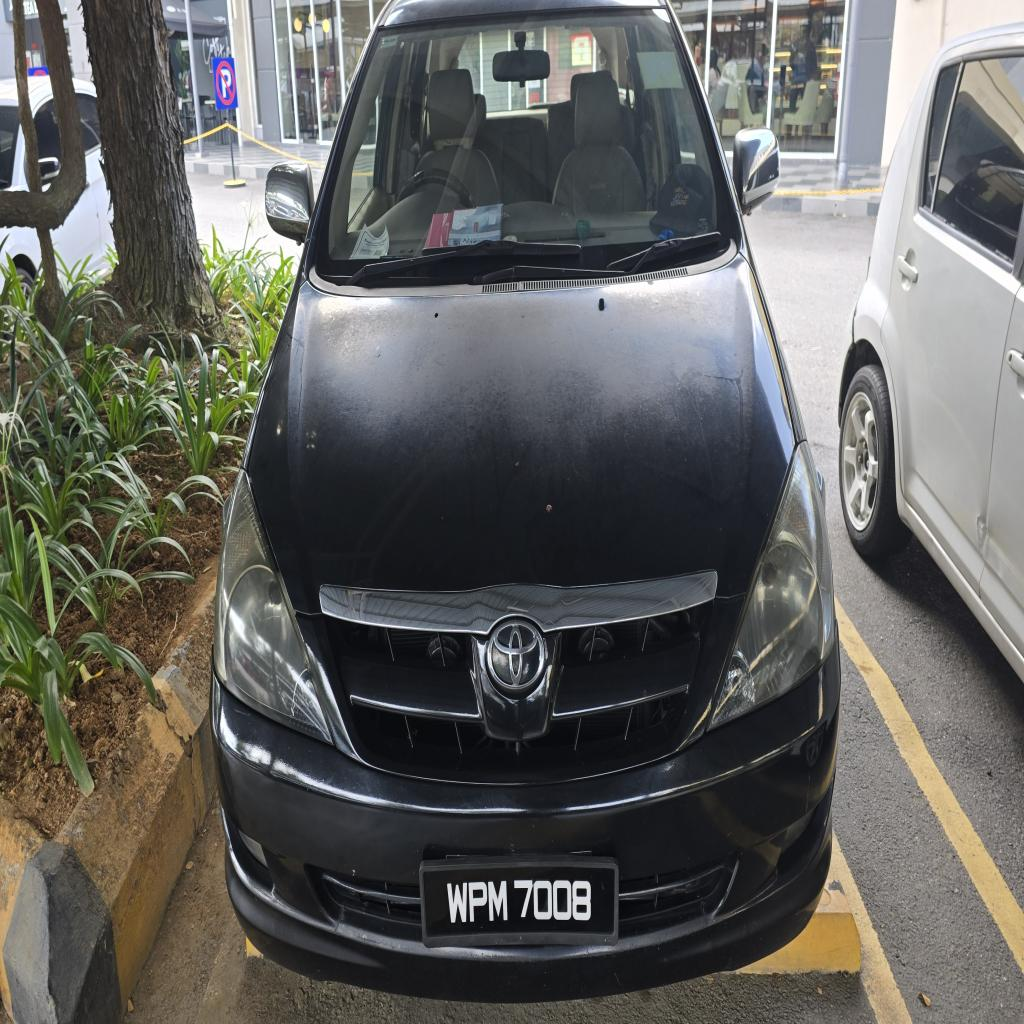car: (212, 0, 840, 1001)
car plate: (421, 856, 618, 946)
